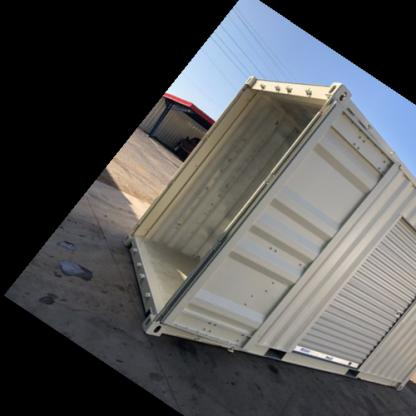Damage: (194, 237, 304, 334)
